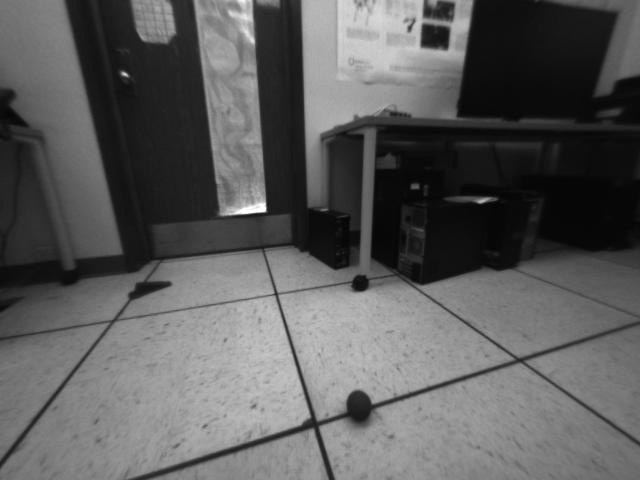dogtoy: (338, 382, 383, 429)
